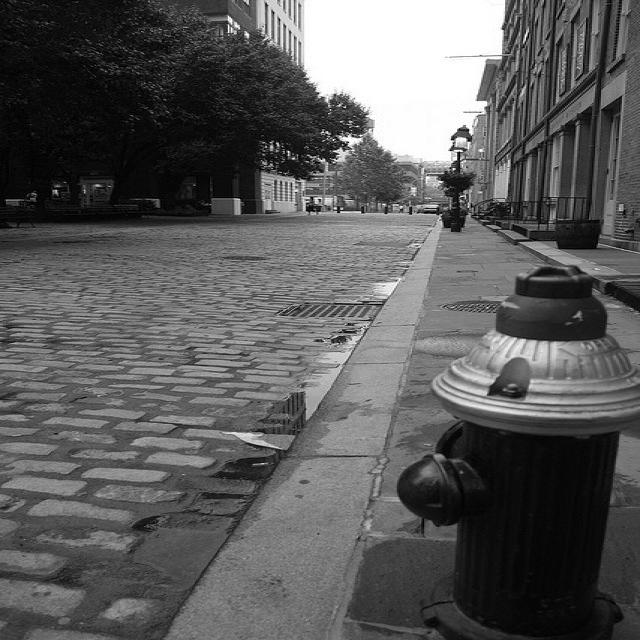fire_hydrant: (394, 262, 639, 638)
